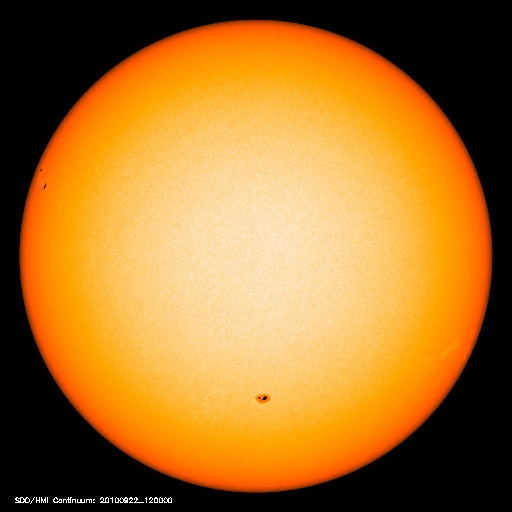sunspot: (242, 380, 285, 417), (32, 158, 57, 199)
